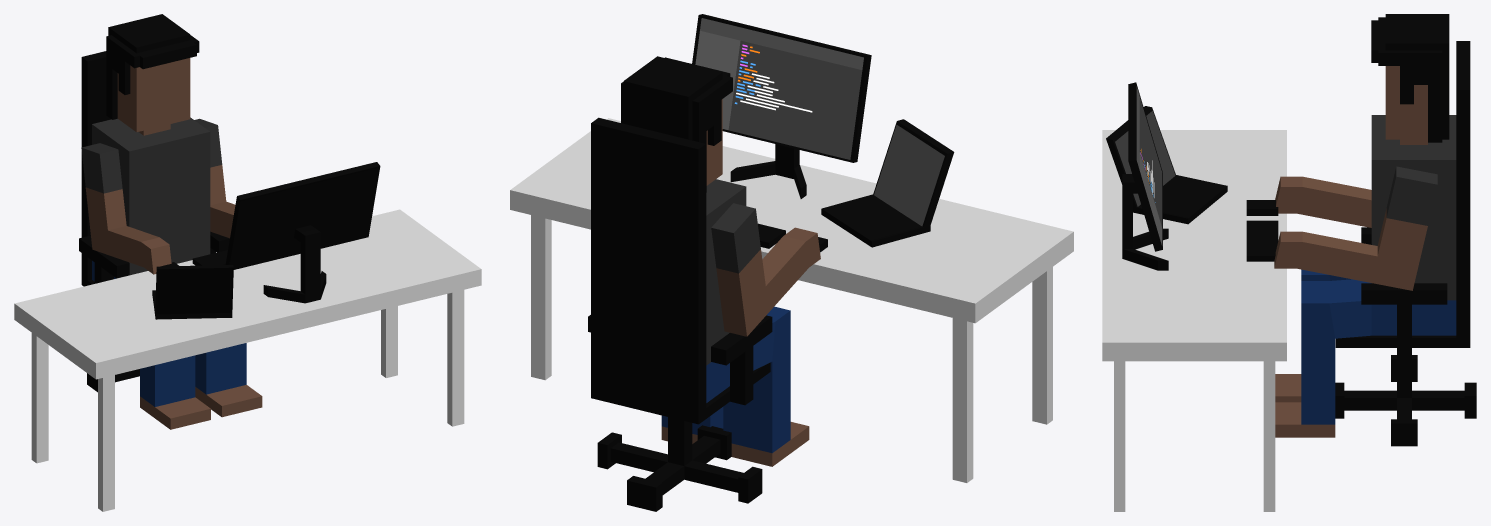
File: meDesk.gltf
3 views of the same model, side by side, from view 1: azimuth 30°, elevation 25°; view 2: azimuth 150°, elevation 25°; view 3: azimuth 270°, elevation 25° (orthographic). The views are drawn at different scales.
Parts seen in each view (by area): view 1: Cube.002, Cube, Cube.006, Cube.001, Cube.005; view 2: Cube.001, Cube.002, Cube, Cube.006, Cube.005; view 3: Cube, Cube.002, Cube.001, Cube.006, Cube.005, Cube.003, Cube.004.
Part boxes in pixels (x1,y1,x2,y2): Cube.002: (14, 209, 481, 511); Cube: (81, 14, 262, 429); Cube.006: (225, 162, 380, 303); Cube.001: (79, 51, 229, 392); Cube.005: (152, 265, 233, 319); Cube.001: (588, 117, 772, 511); Cube.002: (510, 118, 1073, 482); Cube: (621, 56, 820, 466); Cube.006: (692, 14, 871, 198); Cube.005: (821, 119, 954, 247); Cube: (1274, 14, 1456, 437); Cube.002: (1102, 130, 1286, 511); Cube.001: (1335, 41, 1476, 446); Cube.006: (1122, 82, 1168, 270); Cube.005: (1106, 106, 1227, 224); Cube.003: (1246, 220, 1278, 261); Cube.004: (1246, 200, 1278, 215).
Size of the model in its own units: 71.45 by 60.01 by 53.09.
